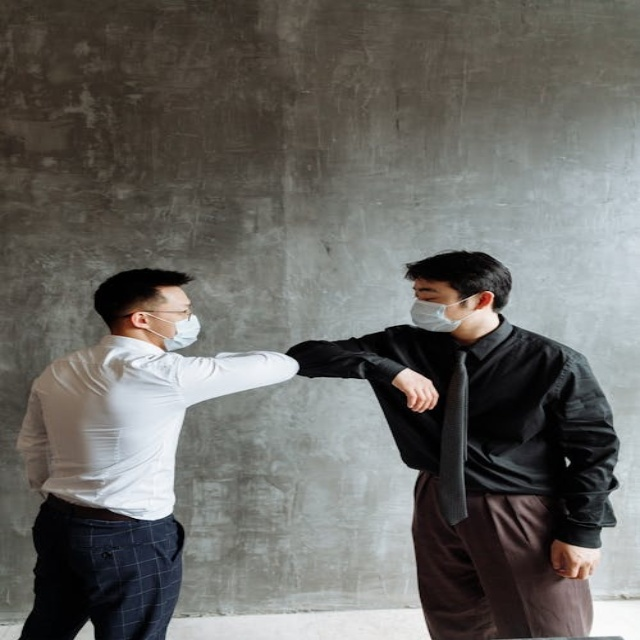Gafas: (142, 303, 197, 320)
Mascara: (410, 293, 478, 332), (141, 312, 201, 351)
Sin_gafas: (407, 285, 443, 301)
Sin_guantes: (536, 532, 609, 581), (381, 364, 445, 414)
